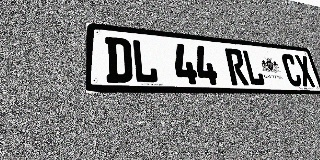4: (172, 43, 198, 84), (193, 45, 219, 85)
C: (280, 53, 303, 87)
D: (105, 37, 133, 83)
L: (131, 39, 159, 84), (241, 50, 266, 86)
R: (224, 48, 249, 85)
X: (294, 55, 316, 87)
